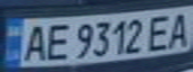1: (109, 17, 130, 56)
2: (124, 15, 148, 54)
3: (90, 18, 112, 57)
9: (69, 19, 93, 60)
A: (18, 21, 51, 63), (163, 9, 193, 48)
E: (42, 20, 72, 62), (145, 11, 175, 52)
